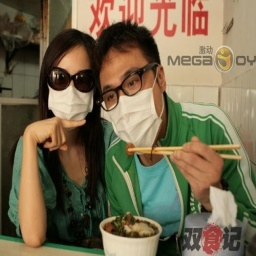correctlyWear: (99, 55, 166, 147), (46, 55, 98, 120)
